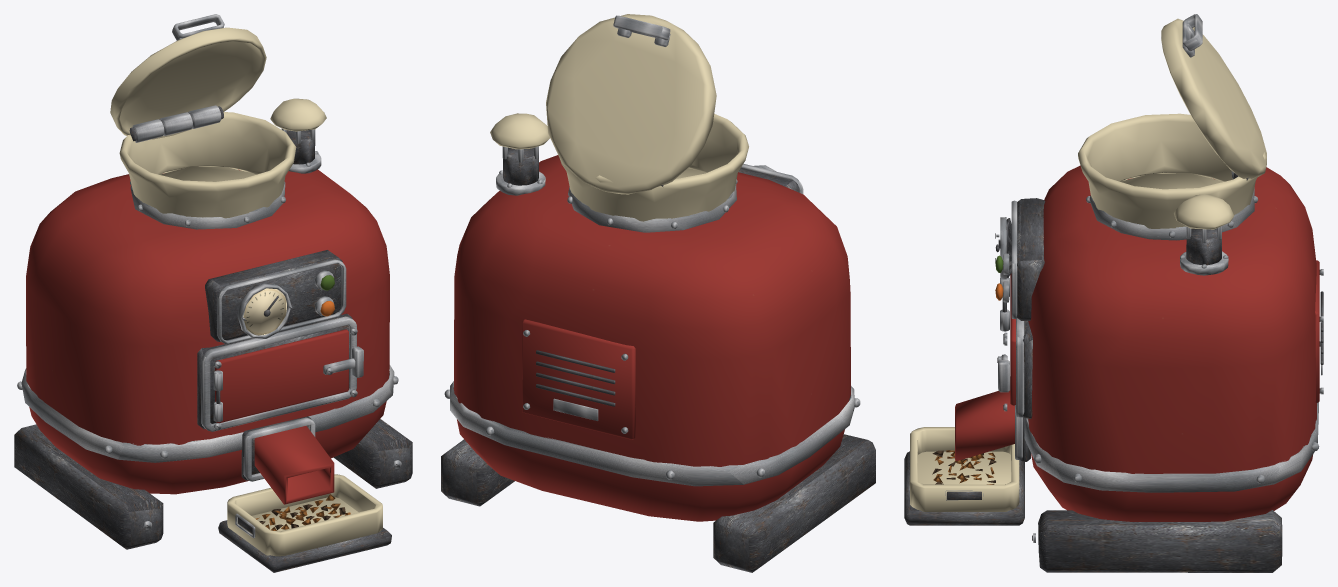
The model's file is FertilizerMaker_Cozy_LOD1.fbx.
The picture shows the model from 3 angles, left to right: view 1: azimuth 30°, elevation 25°; view 2: azimuth 150°, elevation 25°; view 3: azimuth 270°, elevation 25°; orthographic projection. The views are drawn at different scales.
Parts seen in each view (by area): view 1: FertilizerMaker_Cozy_LOD1; view 2: FertilizerMaker_Cozy_LOD1; view 3: FertilizerMaker_Cozy_LOD1.
Boxes of the visible parts, <box> form: FertilizerMaker_Cozy_LOD1: <box>14,14,412,572</box>; FertilizerMaker_Cozy_LOD1: <box>441,14,875,572</box>; FertilizerMaker_Cozy_LOD1: <box>904,14,1323,572</box>.
Size of the model in its own units: 112 by 155 by 124.
